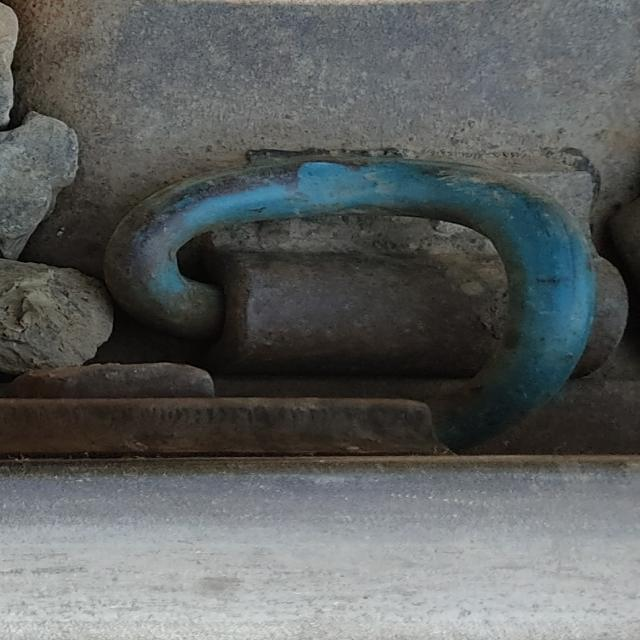track_bolt: (94, 148, 604, 455)
